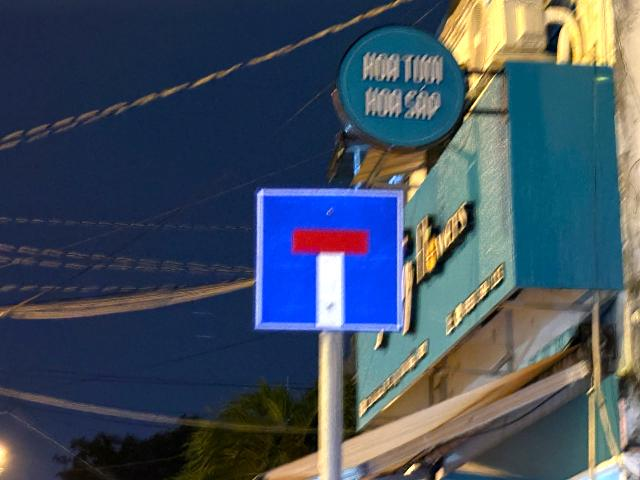duong-cut: (254, 188, 404, 332)
